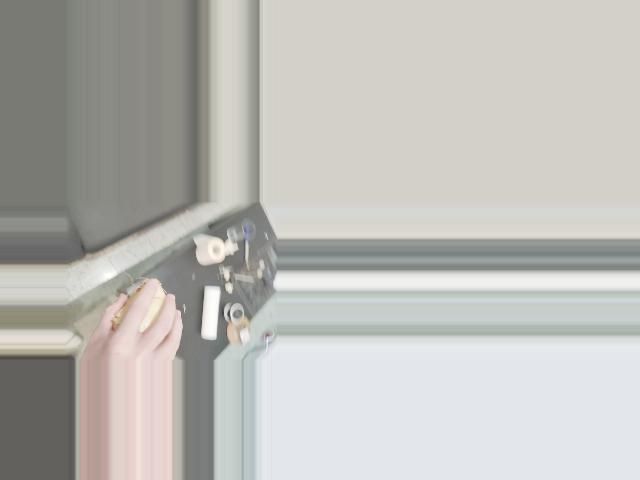onion: (110, 280, 170, 343)
